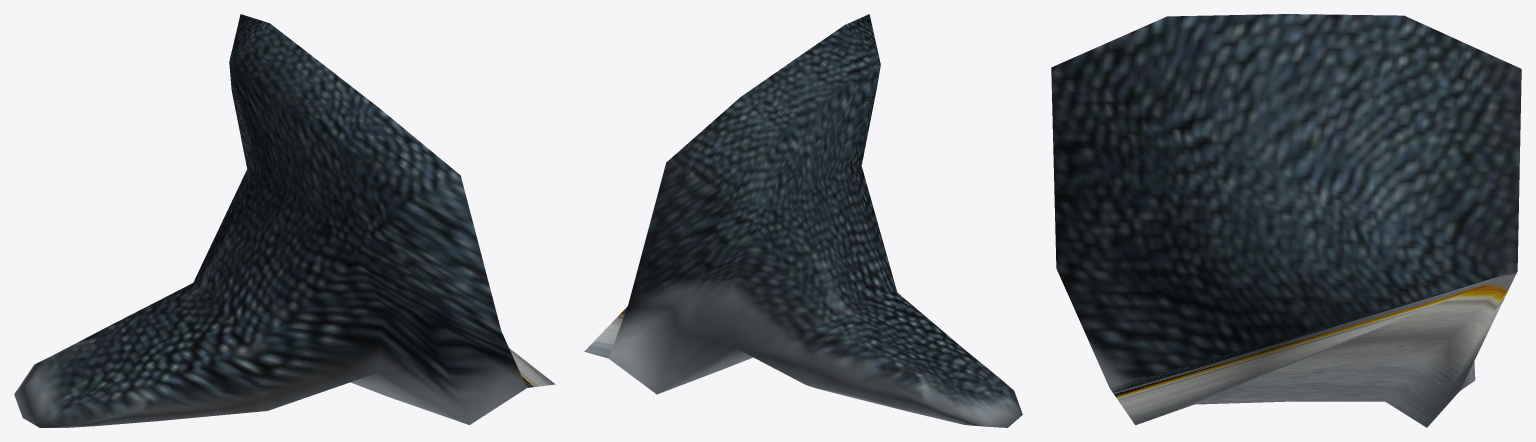
Rendered from penguinColaobj.obj.
3 renders of one model, left to right at view 1: azimuth 30°, elevation 25°; view 2: azimuth 150°, elevation 25°; view 3: azimuth 270°, elevation 25°, orthographic. The views are drawn at different scales.
Parts seen in each view (by area): view 1: penguin.014_penguin.015; view 2: penguin.014_penguin.015; view 3: penguin.014_penguin.015.
Part boxes in pixels (box(x1,y1,x2,y2)): penguin.014_penguin.015: box(14, 14, 555, 427); penguin.014_penguin.015: box(584, 14, 1022, 427); penguin.014_penguin.015: box(1051, 14, 1521, 427).
Size of the model in its own units: 0.7768 by 0.5591 by 0.6923.
Materials: 1 (1 with a texture image).
